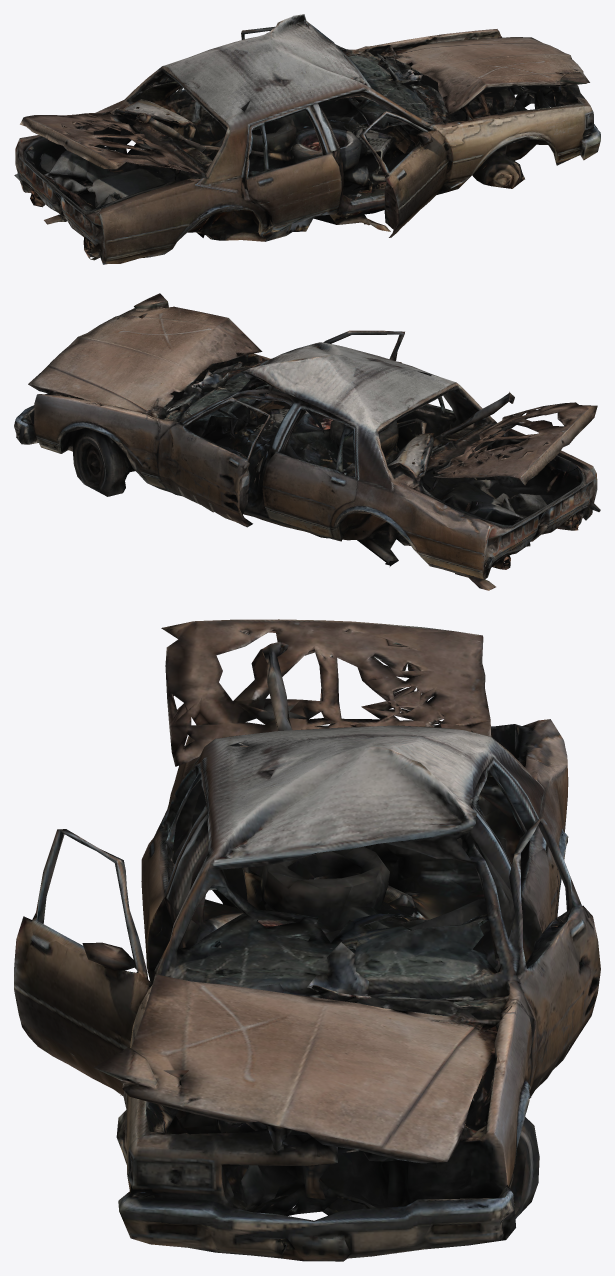
The model's file is car 3.fbx.
3 renders of one model, top to bottom at view 1: azimuth 30°, elevation 25°; view 2: azimuth 150°, elevation 25°; view 3: azimuth 270°, elevation 25°, orthographic. The views are drawn at different scales.
Visible parts, largest first — view 1: Box001; view 2: Box001; view 3: Box001.
Boxes of the visible parts, box(x1,y1,x2,y2) form: Box001: box(14, 14, 600, 264); Box001: box(14, 293, 600, 590); Box001: box(14, 619, 600, 1261).
Size of the model in its own units: 315 by 95.77 by 164.
1 material, 1 textured.
